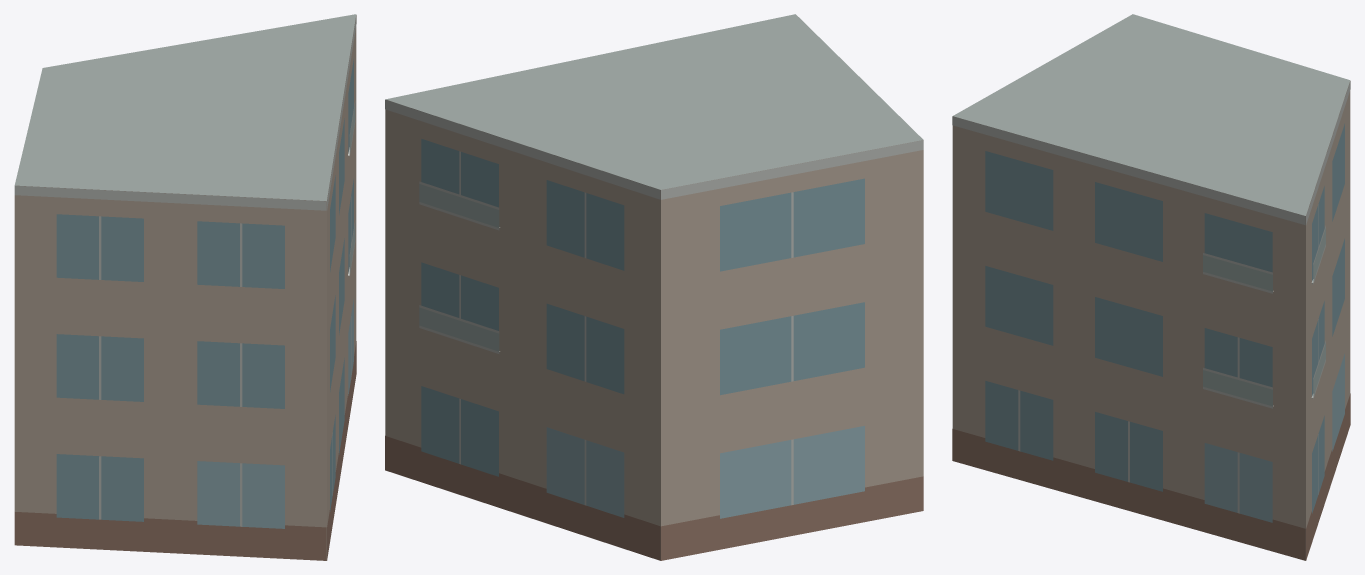
Rendered from survey-upis-32494178.glb.
The picture shows the model from 3 angles, left to right: view 1: azimuth 30°, elevation 25°; view 2: azimuth 150°, elevation 25°; view 3: azimuth 270°, elevation 25°; orthographic projection. The views are drawn at different scales.
Parts seen in each view (by area): view 1: survey-upis-32494178.tmp; view 2: survey-upis-32494178.tmp; view 3: survey-upis-32494178.tmp.
Part boxes in pixels (<box>): survey-upis-32494178.tmp: <box>14,14,356,560</box>; survey-upis-32494178.tmp: <box>385,14,923,560</box>; survey-upis-32494178.tmp: <box>952,14,1350,560</box>.
Bounding box in the file's own units: 11.45 × 9.1 × 9.53.
